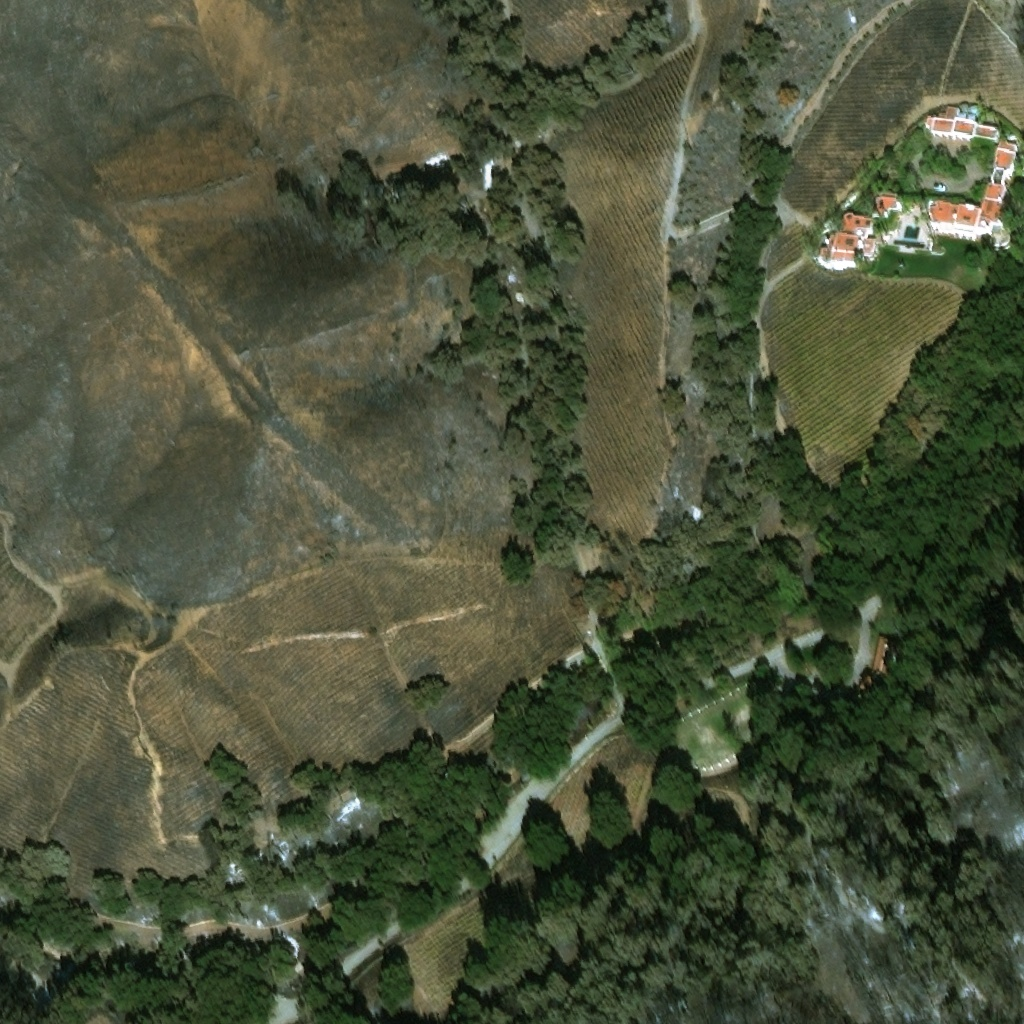0 no-damage: (926, 168, 1009, 243), (849, 634, 899, 709), (819, 211, 875, 267), (924, 101, 996, 136), (992, 135, 1014, 169), (874, 192, 900, 216)
4 un-classified: (914, 680, 942, 713), (387, 170, 421, 193), (355, 176, 381, 195), (459, 198, 476, 220), (513, 288, 522, 297)
